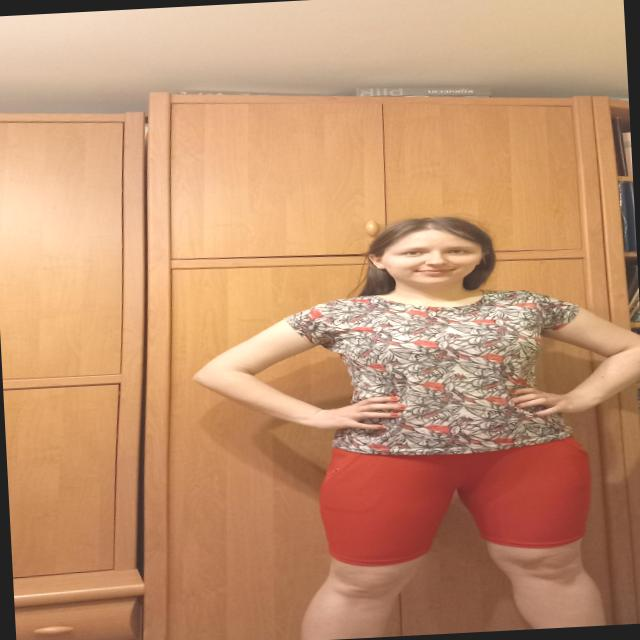Tshirt: (282, 284, 586, 463)
short: (315, 433, 596, 569)
